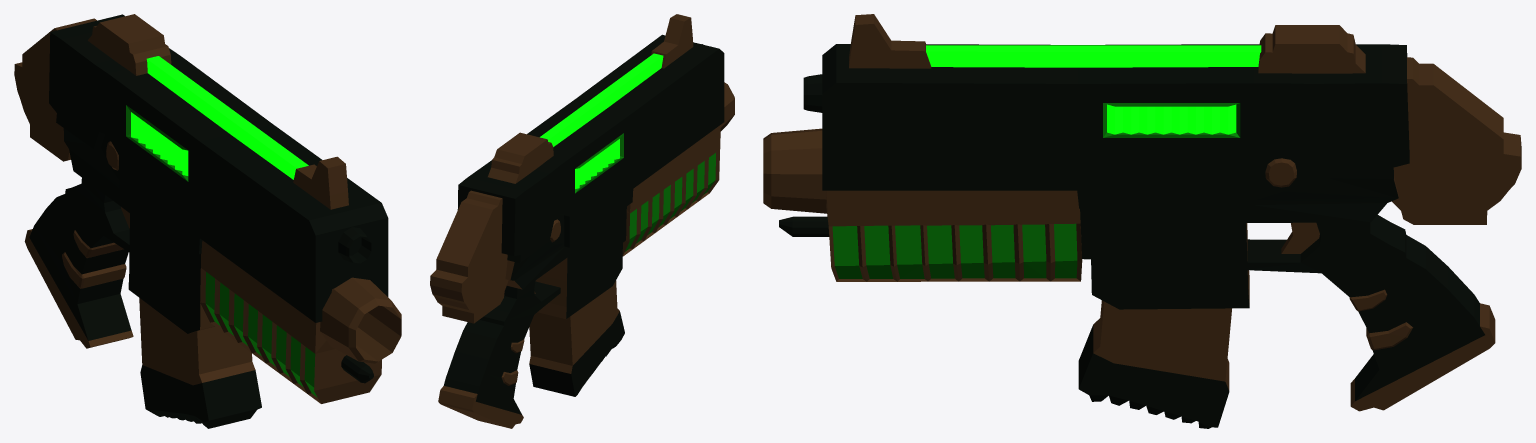
Rendered from bolter.fbx.
The picture shows the model from 3 angles, left to right: view 1: azimuth 30°, elevation 25°; view 2: azimuth 150°, elevation 25°; view 3: azimuth 270°, elevation 25°; orthographic projection. The views are drawn at different scales.
Visible parts, largest first — view 1: bolter, barel; view 2: bolter, barel; view 3: bolter, barel.
Part boxes in pixels (box(x1,y1,x2,y2)): bolter: box(14, 14, 388, 428); barel: box(320, 277, 401, 363); bolter: box(430, 14, 724, 428); barel: box(720, 82, 734, 131); bolter: box(779, 14, 1521, 428); barel: box(763, 128, 826, 213).
Size of the model in its own units: 9.94 by 46.91 by 80.84.
